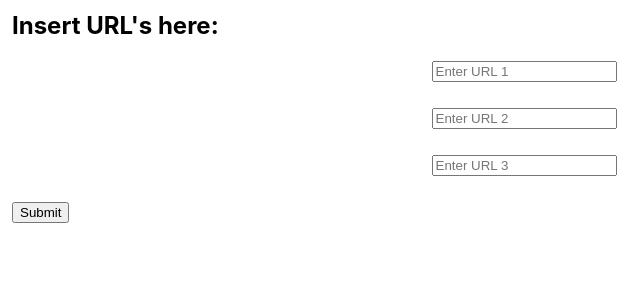
it: URLForms › 4th URL input is enabled if the 3rd URL is filled
The width and height of the screenshot is (634, 287).
// Simulate entering valid URLs in the first three fields
In the field with placeholder "Enter URL 1": (524, 71) [432,61,616,82], type "https://example1.com"
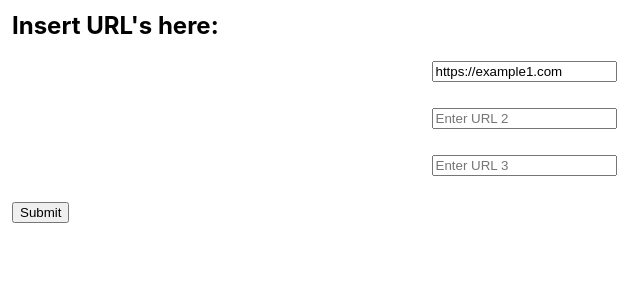
In the field with placeholder "Enter URL 2": (524, 118) [432,108,616,129], type "https://example2.com"
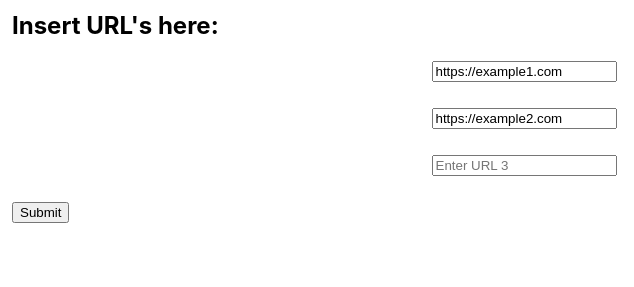
In the field with placeholder "Enter URL 3": (524, 165) [432,155,616,176], type "https://example3.com"
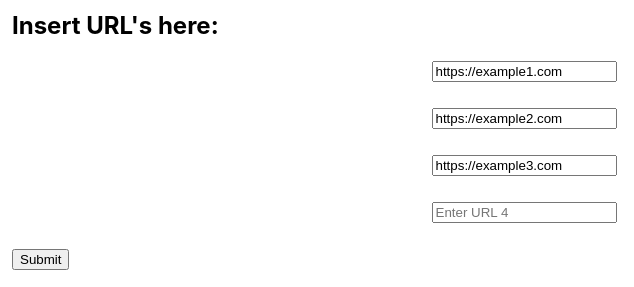
Expected: the field with placeholder "Enter URL 4" is shown, [432,202,616,223]
